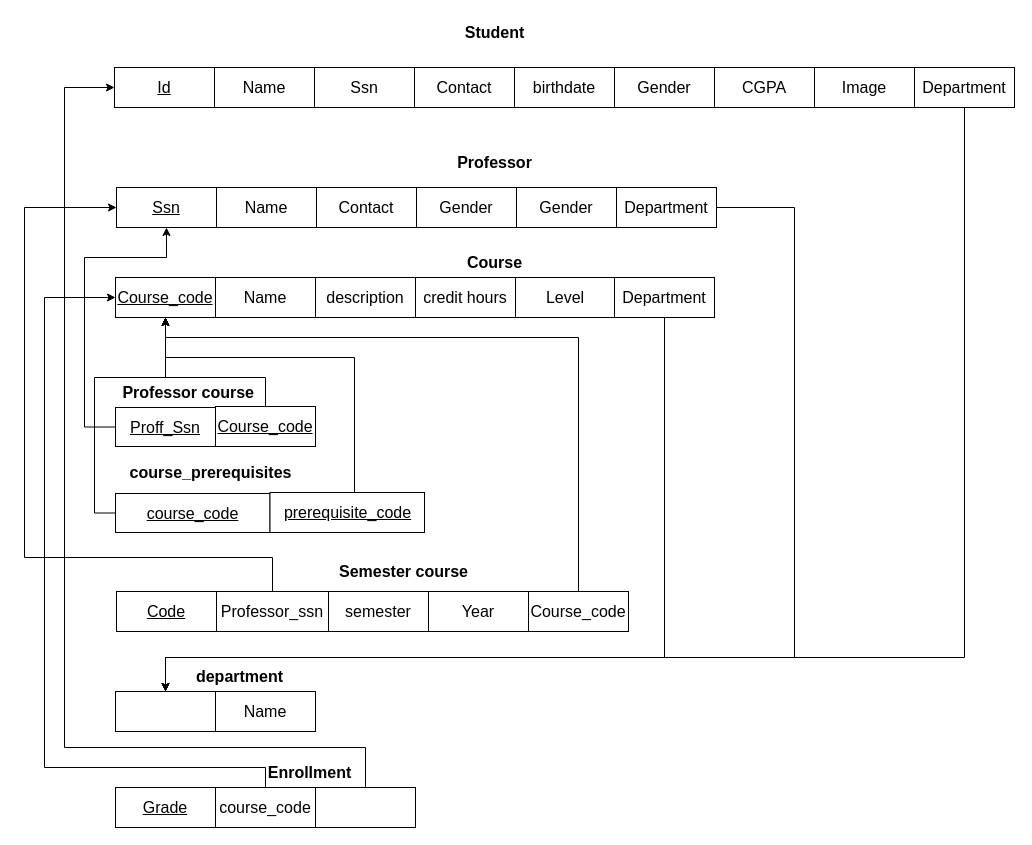
Image size: 1032x845. Some labels were removed from this diagram. Each missing label, with the centre of its shape:
"Dept_code" goes at (165,711).
"Student_id" goes at (365,807).
